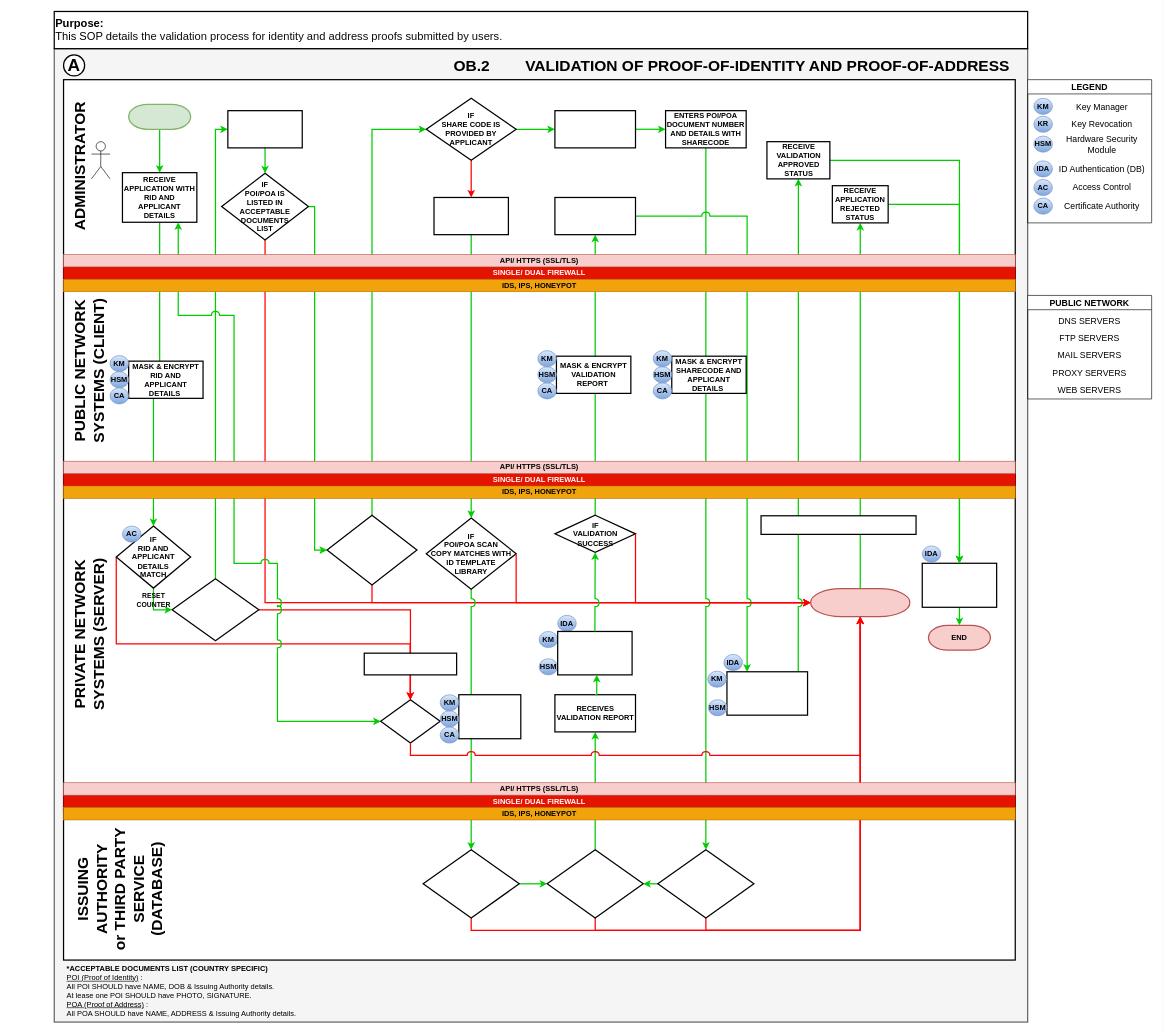
Some shapes in this 1163 by 1033 pixel diagram are drawn without their labels. The shapes that lost their labels are listed below. From the top down, each one's centre as x and y in pixels, then its label:
the point at 159,117: START (ONLINE)
the point at 265,129: INITIATE POI/POA VALIDATION
the point at 595,129: VISIT ISSUING AUTHORITY WEBSITE TO VALIDATE SHARE CODE
the point at 100,160: ADMIN
the point at 471,216: CONTACT ISSUING AUTHORITY FOR VALIDATION
the point at 595,216: CONFIRMS VALIDATION SUCCESS
the point at 838,525: NOTIFICATION GENERATOR
the point at 371,549: IF POI/POA IS NOT EXPIRED MORE THAN THREE MONTHS
the point at 860,602: TERMINATE PROCESS: REJECT APPLICATION
the point at 959,585: LOGS THE PROCESS AND STATUS
the point at 215,609: IF COLLECTION AND RESOLUTION IS COMPLETE
the point at 410,663: EXCEPTION AND ERROR HANDLING (COUNTER)
the point at 594,653: STORE EXTERNAL VALIDATION REPORT DETAILS IN RID ACCOUNT
the point at 767,693: UPDATE RID ACCOUNT WITH POI/POA VALIDATION APPROVED STATUS
the point at 410,721: IF RETRY COUNT <=3
the point at 489,716: MASK & ENCRYPT POI/POA DETAILS
the point at 471,883: IF POI/POA DOCUMENT NUMBER AND DETAILS MATCH
the point at 595,883: IF POI/POA NOT IN LOST or THEFT DOCUMENT DATABASE
the point at 705,883: IF SHARECODE AND POI/POA DOCUMENT DEATILS MATCH
